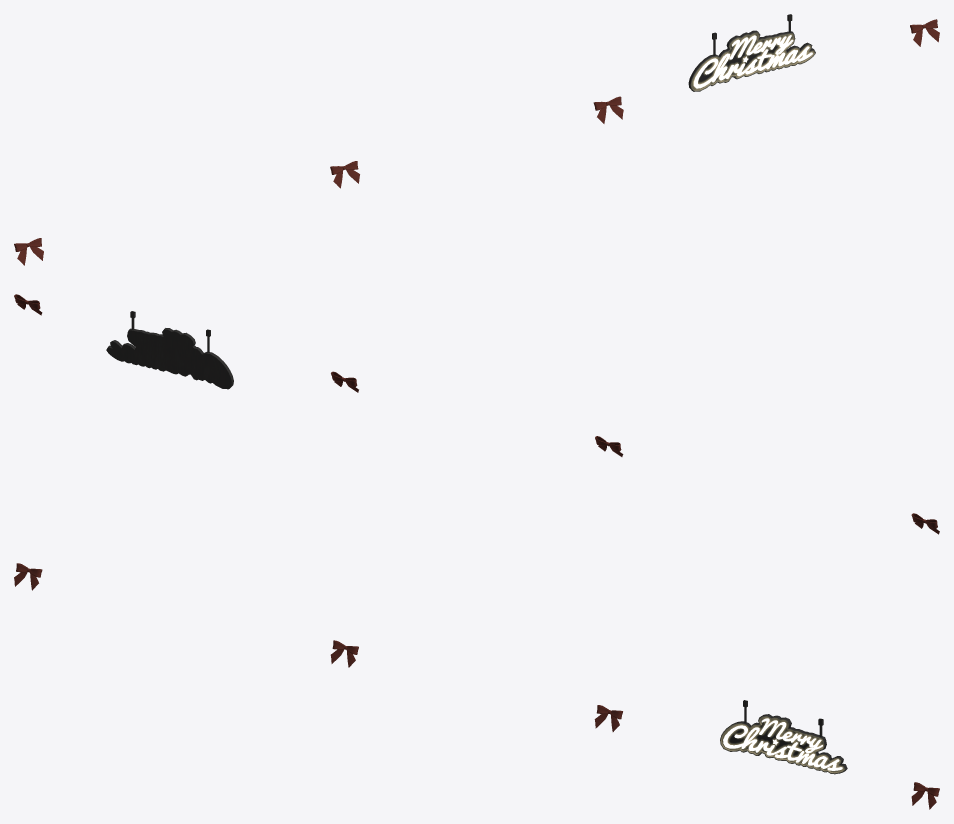
File: ChristmasRoom_Neon.fbx
3 views of the same model, one above another, from view 1: azimuth 30°, elevation 25°; view 2: azimuth 150°, elevation 25°; view 3: azimuth 330°, elevation 25° (orthographic).
Parts seen in each view (by area): view 1: ChristmasRoom_Neon; view 2: ChristmasRoom_Neon; view 3: ChristmasRoom_Neon.
Part boxes in pixels (x1=…): ChristmasRoom_Neon: x1=14, y1=14, x2=939, y2=265; ChristmasRoom_Neon: x1=14, y1=294, x2=939, y2=534; ChristmasRoom_Neon: x1=14, y1=563, x2=939, y2=809.
Bounding box in the file's own units: 949 × 53.16 × 38.36.
